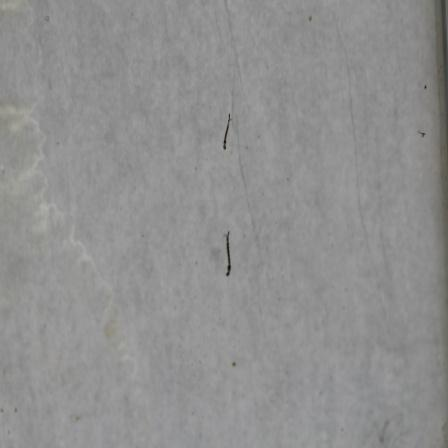Jentik-Nyamuk: (219, 229, 238, 279), (220, 112, 235, 152)
